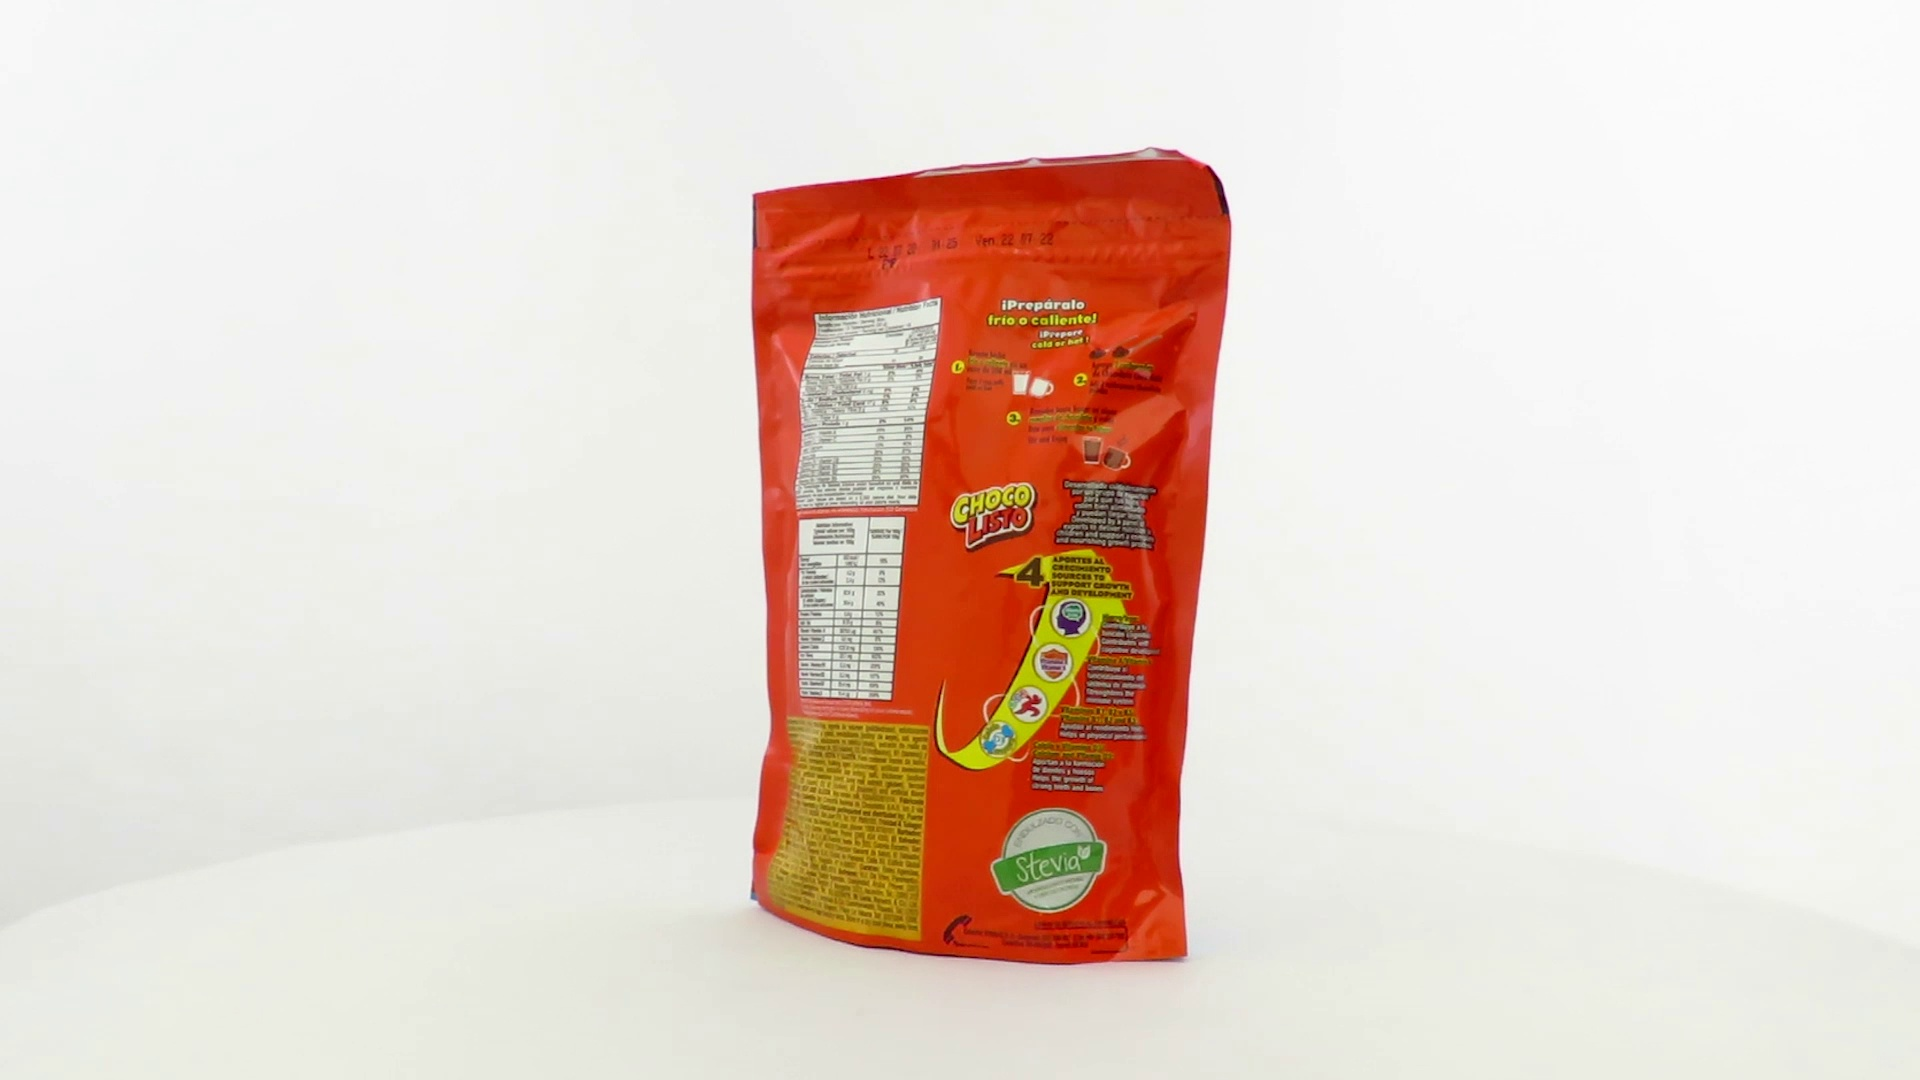COL0170104DYP20000: (745, 141, 1238, 972)
